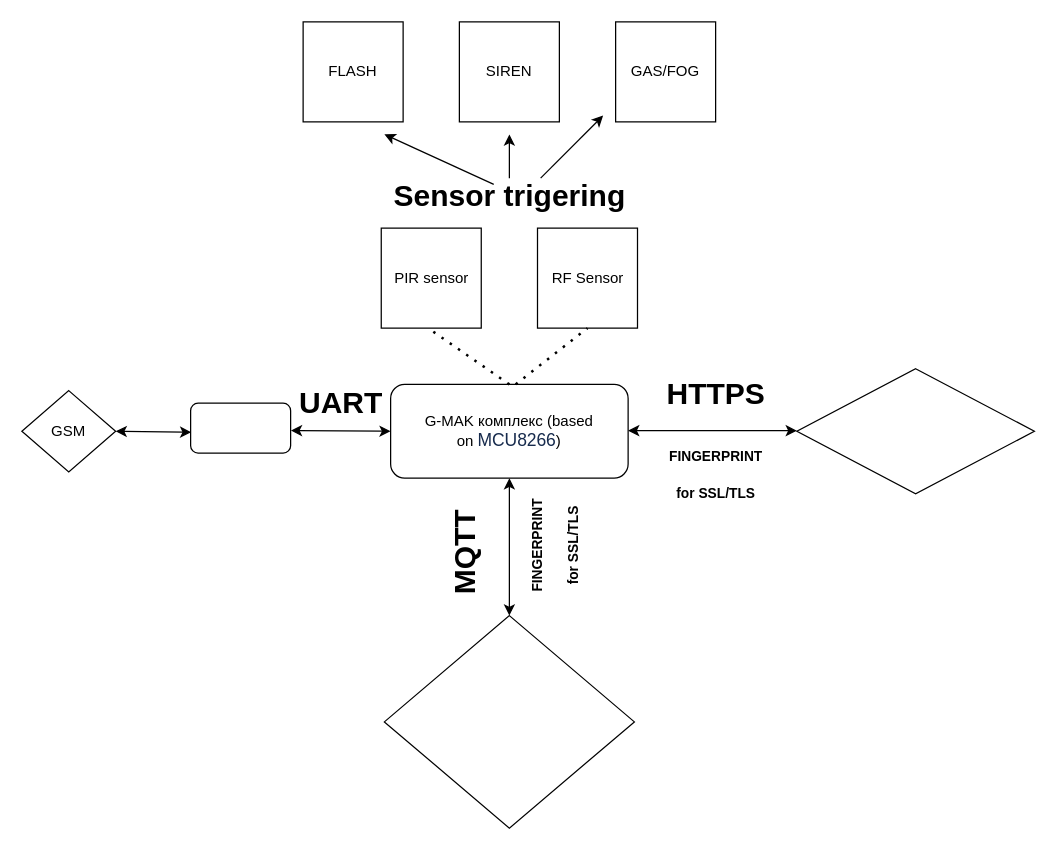
Image size: 1056x850. Some labels were removed from this diagram. Each missing label, with the centre of its shape:
"SIM800C" belongs at point (240, 427).
"TELEGRAM BOT" belongs at point (915, 431).
"Приложение G-MAK APP" belongs at point (508, 721).
